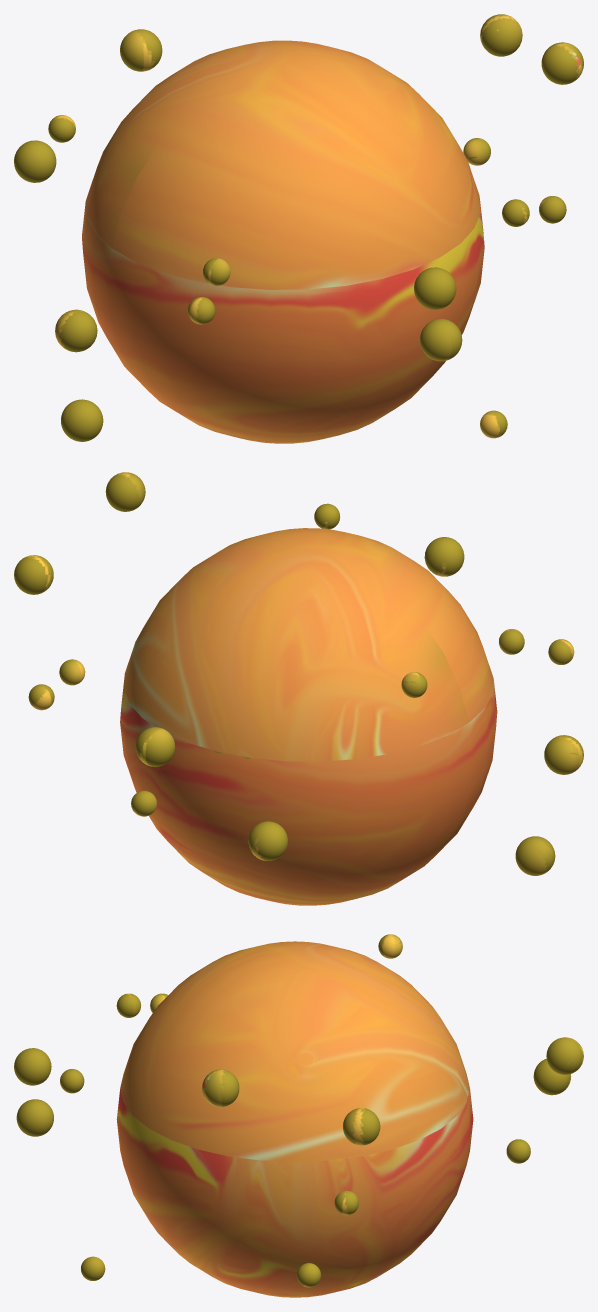
Rendered from planet v2.fbx.
3 renders of one model, top to bottom at view 1: azimuth 30°, elevation 25°; view 2: azimuth 150°, elevation 25°; view 3: azimuth 270°, elevation 25°, orthographic. The views are drawn at different scales.
Parts seen in each view (by area): view 1: Sphere.012; view 2: Sphere.012; view 3: Sphere.012.
Part boxes in pixels (x1,y1,x2,y2): Sphere.012: [14, 14, 583, 443]; Sphere.012: [14, 472, 583, 905]; Sphere.012: [14, 934, 583, 1297].
Bounding box in the file's own units: 904 × 577 × 923.
